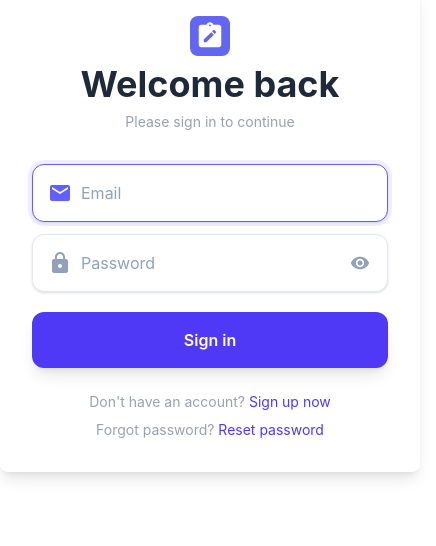
Scenario: LoginCard › validation: shows error when email is empty
Click the button "Sign in" at coordinates (210, 340), box [32, 312, 388, 368]
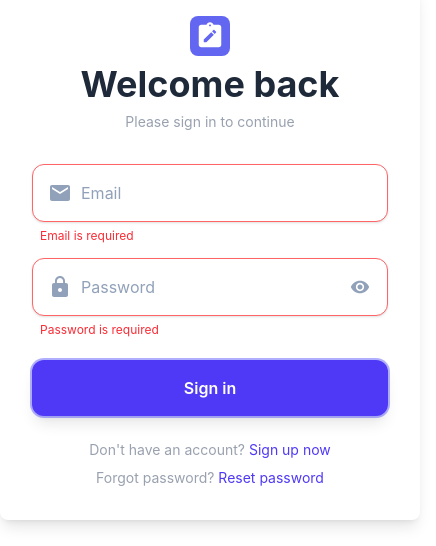
Expected: the text "Email is required" is shown, [40, 228, 134, 243]
